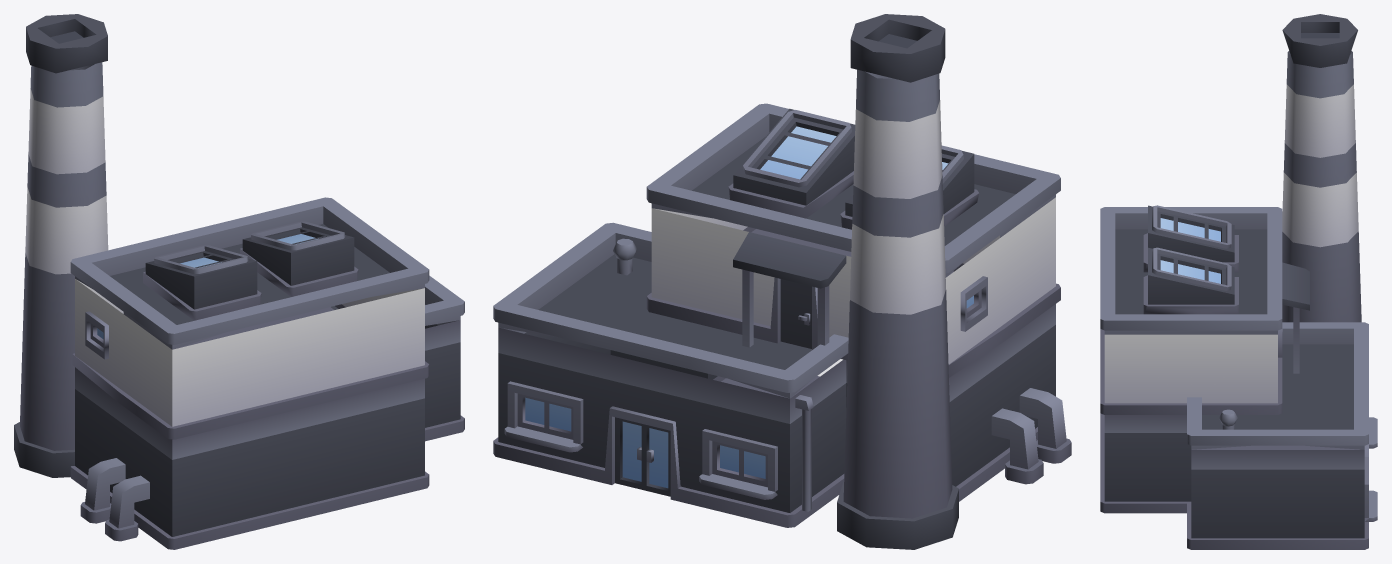
The model's file is building-f.lod.glb.
3 views of the same model, side by side, from view 1: azimuth 30°, elevation 25°; view 2: azimuth 150°, elevation 25°; view 3: azimuth 270°, elevation 25° (orthographic). The views are drawn at different scales.
Visible parts, largest first — view 1: building-f; view 2: building-f; view 3: building-f.
Part boxes in pixels (x1=…): building-f: x1=14, y1=14, x2=464, y2=549; building-f: x1=493, y1=14, x2=1071, y2=549; building-f: x1=1100, y1=14, x2=1377, y2=549.
Size of the model in its own units: 1.79 by 1.92 by 1.28.
1 material, 1 textured.
